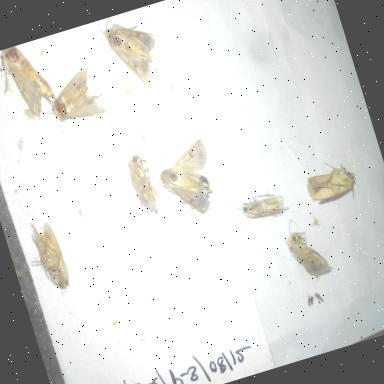abw: (139, 130, 227, 230), (92, 5, 172, 98), (30, 55, 114, 141), (0, 37, 66, 129), (16, 210, 81, 302), (275, 207, 338, 286), (110, 144, 169, 226), (294, 149, 366, 215), (216, 178, 292, 234)
